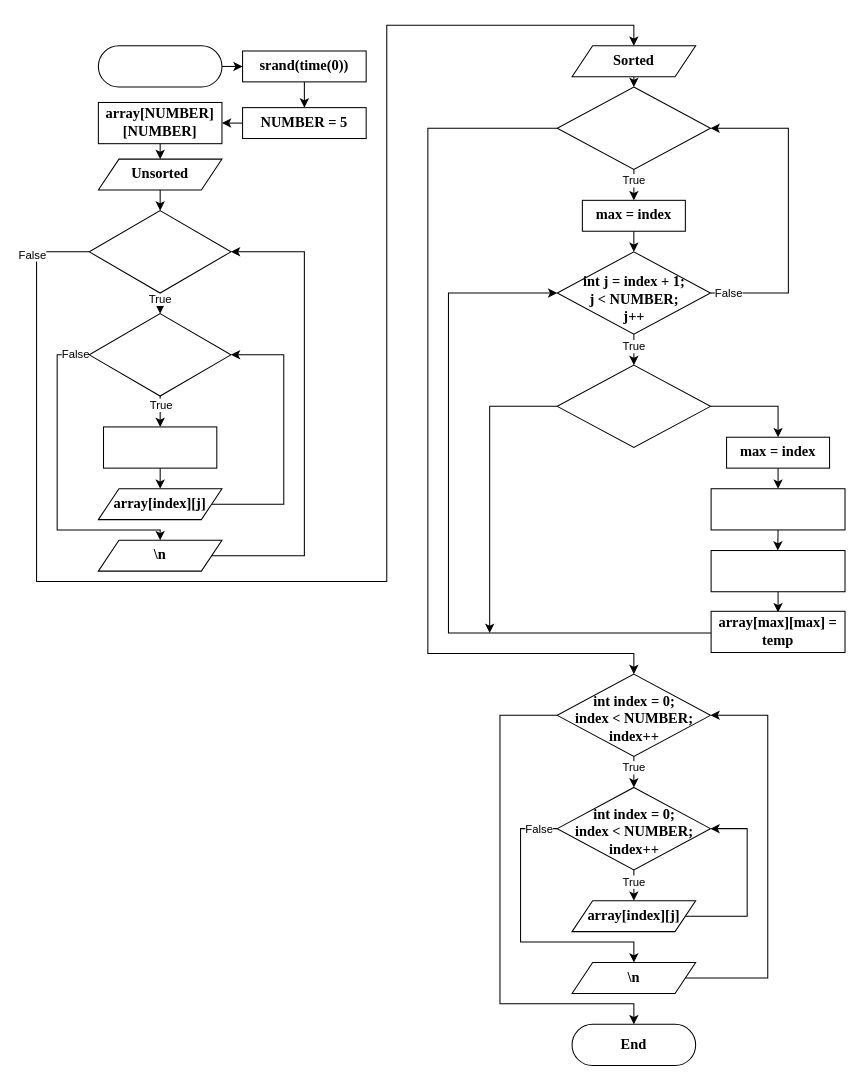
This 863x1084 diagram has some shape labels left out. The box of each missing label's shape, as (x1, y1, x2, y2) in pixels:
array[index][index] = array[max][max]: (710, 550, 845, 592)
array[index][j] = rand() % 20 - 10: (102, 426, 217, 468)
array[j][j] > array[max][max]: (556, 364, 710, 448)
Beginning: (97, 45, 222, 87)
int index = 0 index < NUMBER ;index++: (88, 210, 231, 293)
int index = 0; index < NUMBER - 1; index++: (556, 86, 710, 169)
int j = 0; j< NUMBER j++: (88, 313, 231, 396)
temp = array[index][index]: (710, 488, 845, 530)
